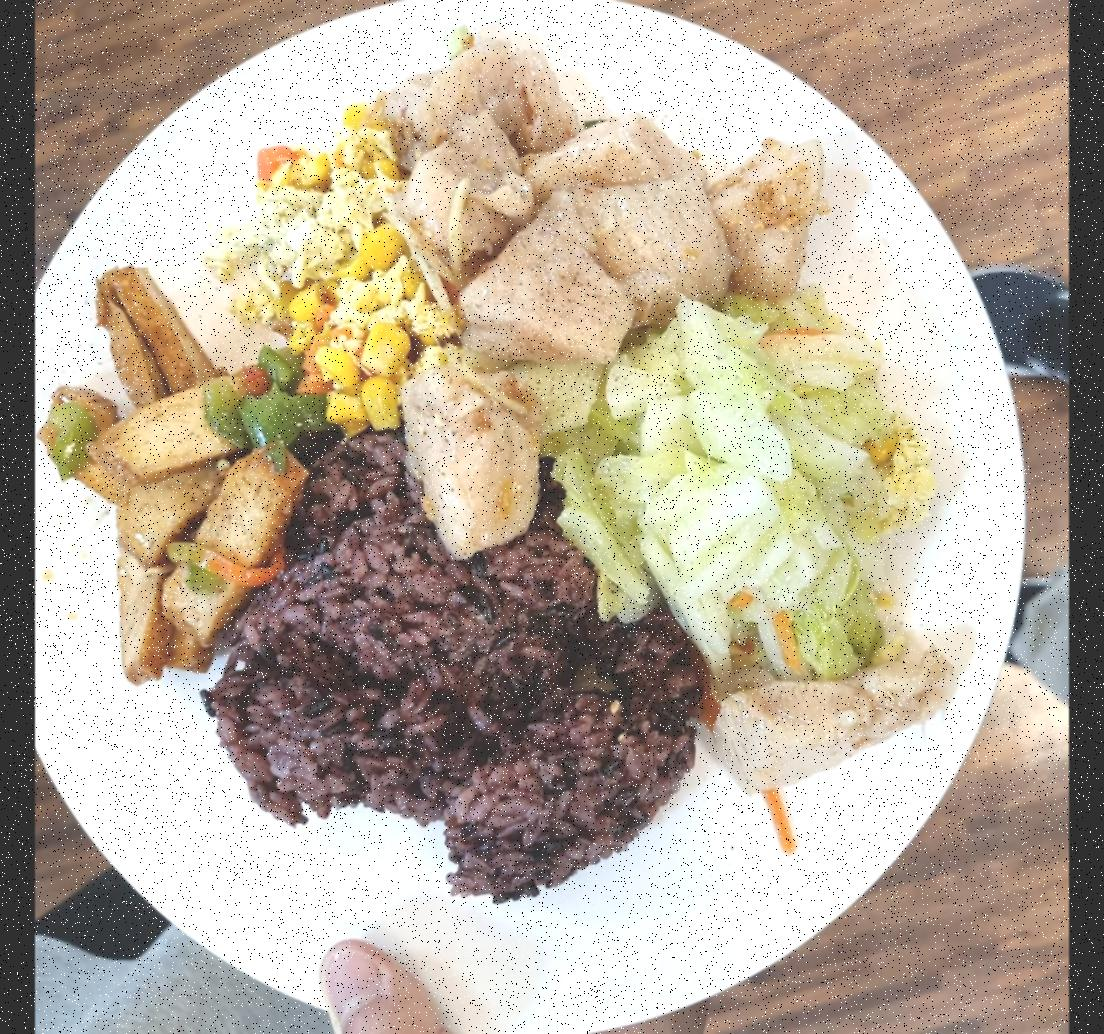plate: (43, 0, 1007, 1034)
purple rice: (206, 419, 711, 893)
scallion chicken: (386, 58, 778, 545)
side dish: (545, 286, 925, 660), (66, 243, 294, 698), (213, 121, 441, 438)
